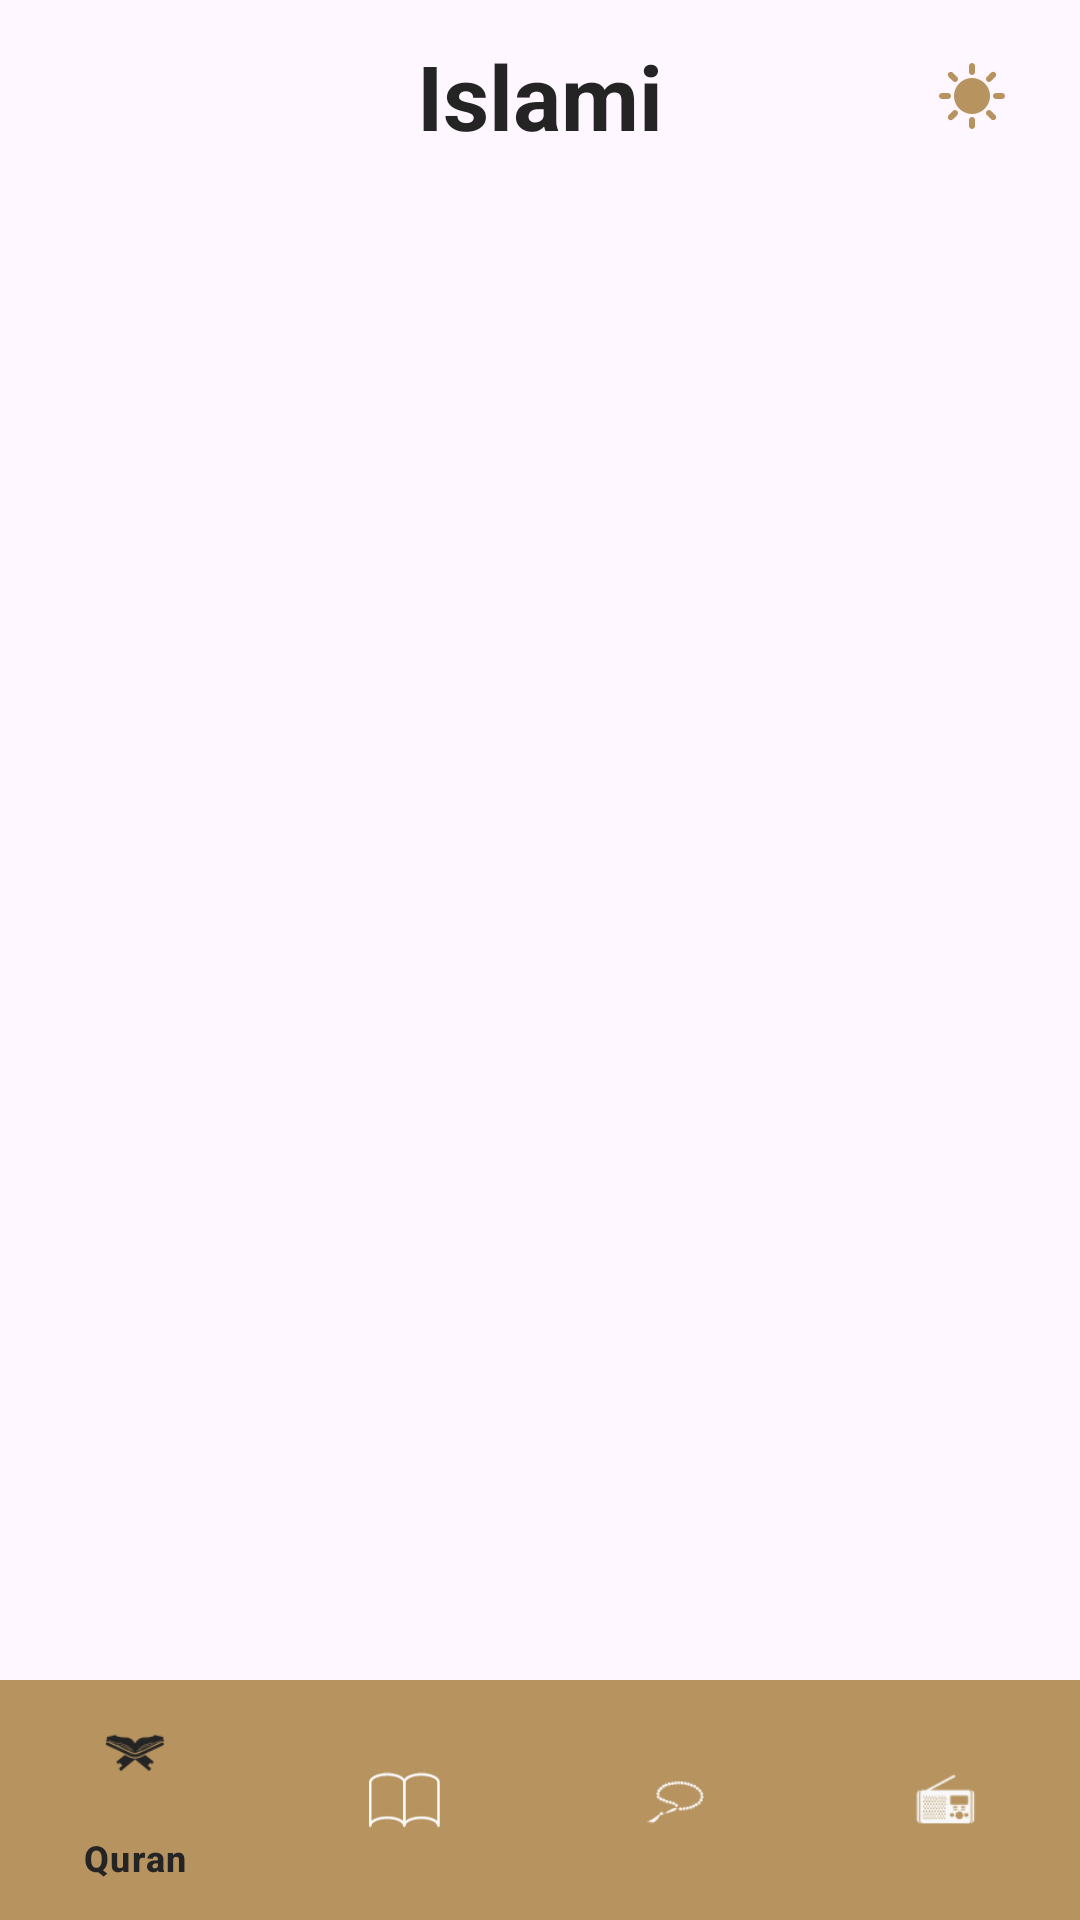

Named icons in this screenshot (1080*1920) and their centers, [x,y]:
mode: [972,96]
